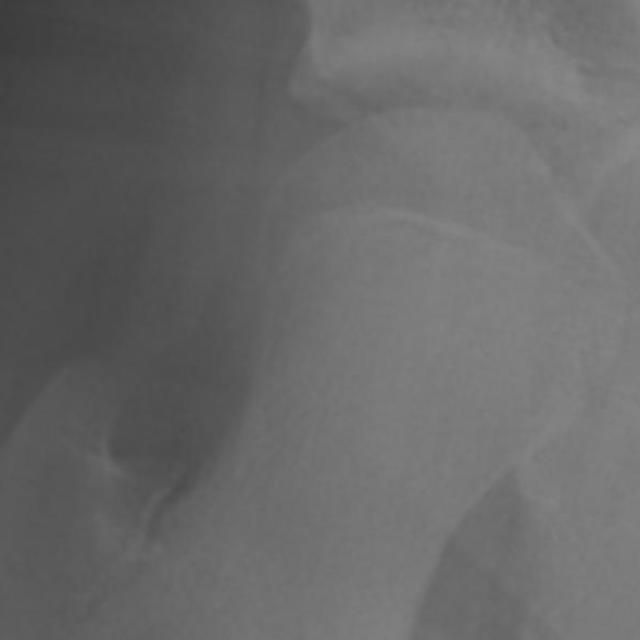Fitted_femural_head: (371, 110, 432, 371)
